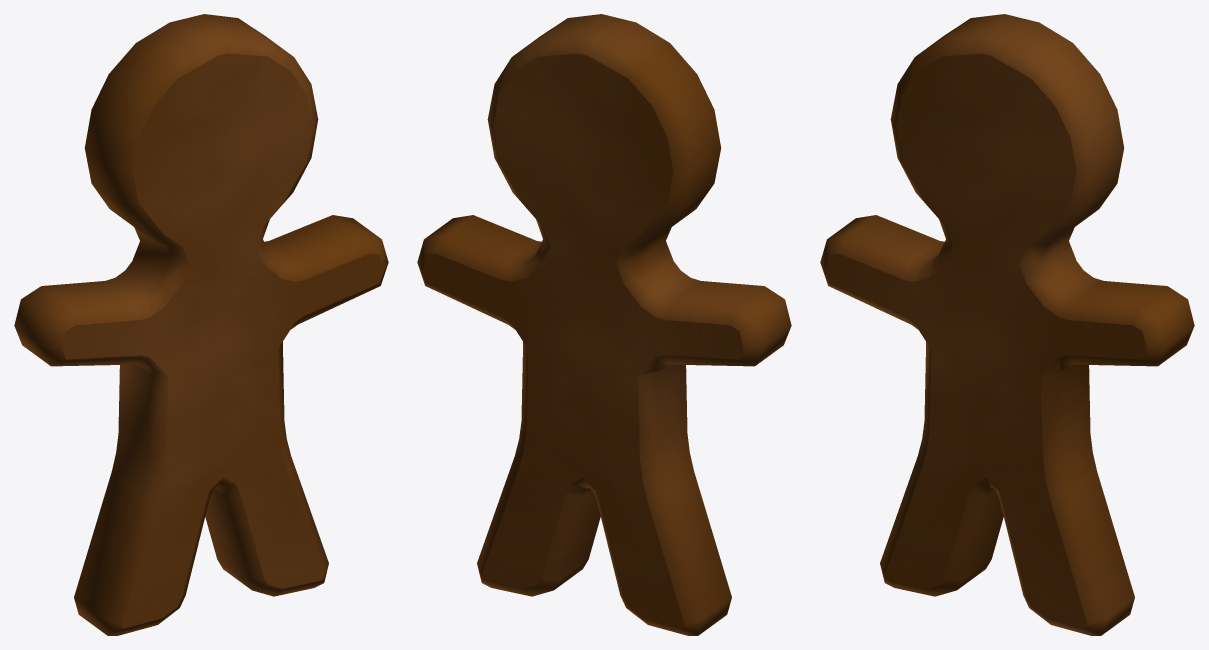
File: GingerBreadMan.glb
3 views of the same model, side by side, from view 1: azimuth 30°, elevation 25°; view 2: azimuth 150°, elevation 25°; view 3: azimuth 330°, elevation 25° (orthographic).
Parts seen in each view (by area): view 1: GingerBreadMan; view 2: GingerBreadMan; view 3: GingerBreadMan.
Boxes of the visible parts, x1,y1,x2,y2 form: GingerBreadMan: [14, 14, 388, 635]; GingerBreadMan: [417, 14, 791, 635]; GingerBreadMan: [820, 14, 1194, 635].
Size of the model in its own units: 1.14 by 1.81 by 0.2441.
Materials: 1 (1 with a texture image).
